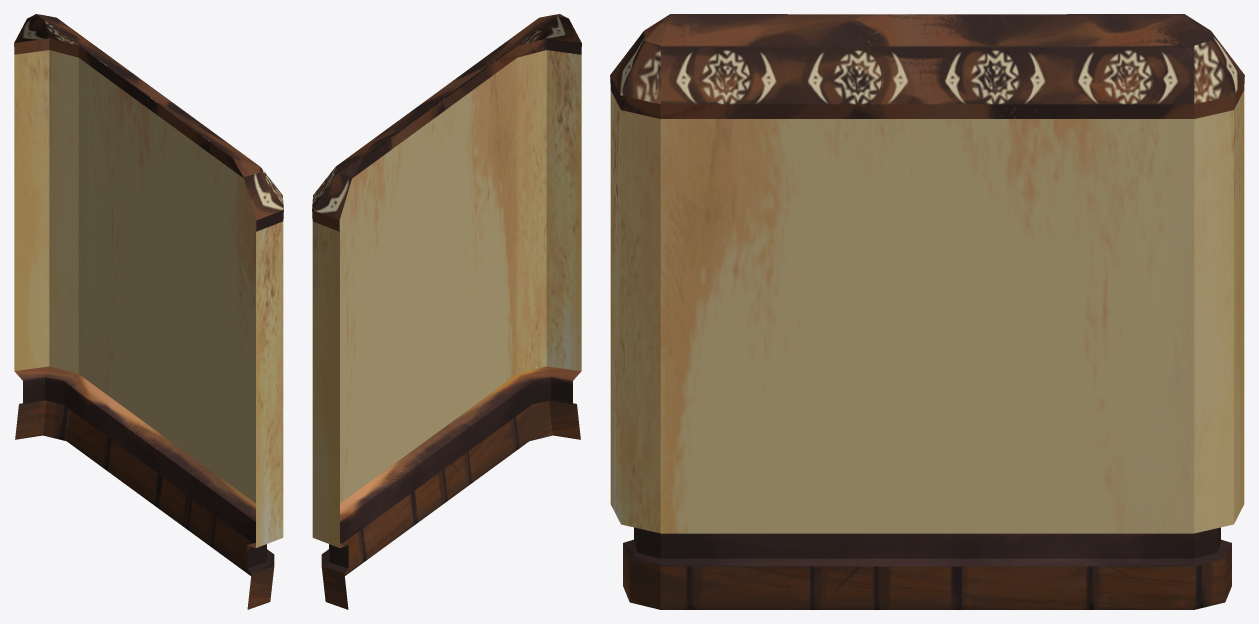
File: стіна з поворотами з обох сторін.fbx
The picture shows the model from 3 angles, left to right: view 1: azimuth 30°, elevation 25°; view 2: azimuth 150°, elevation 25°; view 3: azimuth 270°, elevation 25°; orthographic projection. The views are drawn at different scales.
Parts seen in each view (by area): view 1: трім.008; view 2: трім.008; view 3: трім.008.
Part boxes in pixels (x1,y1,x2,y2): трім.008: [14, 14, 283, 609]; трім.008: [312, 14, 581, 609]; трім.008: [610, 14, 1244, 609].
Size of the model in its own units: 32.89 by 277 by 277.
